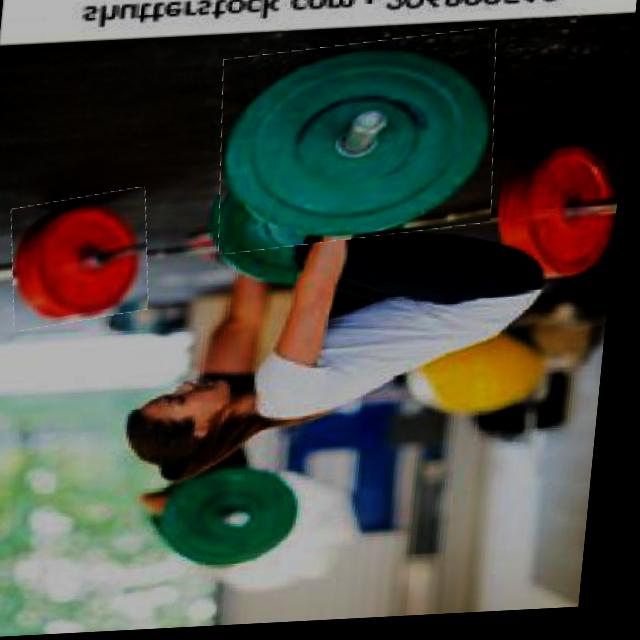barbell: (215, 37, 508, 254), (11, 192, 160, 329)
